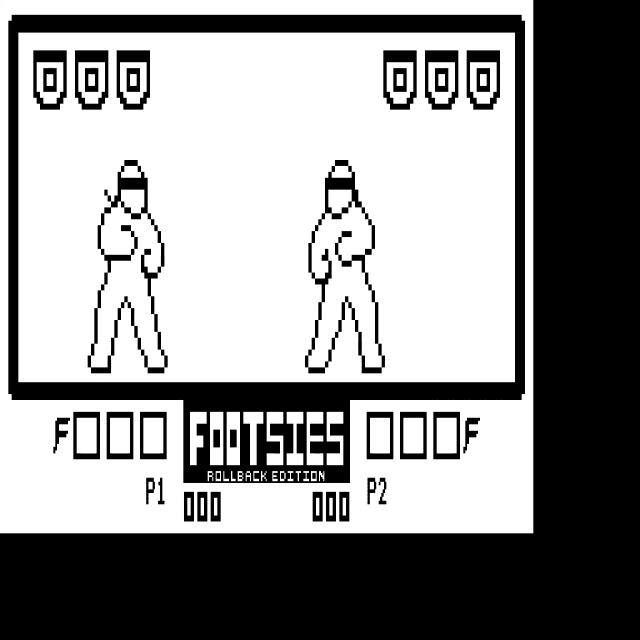Idle: (86, 155, 168, 375)
Knee: (304, 156, 386, 375)
